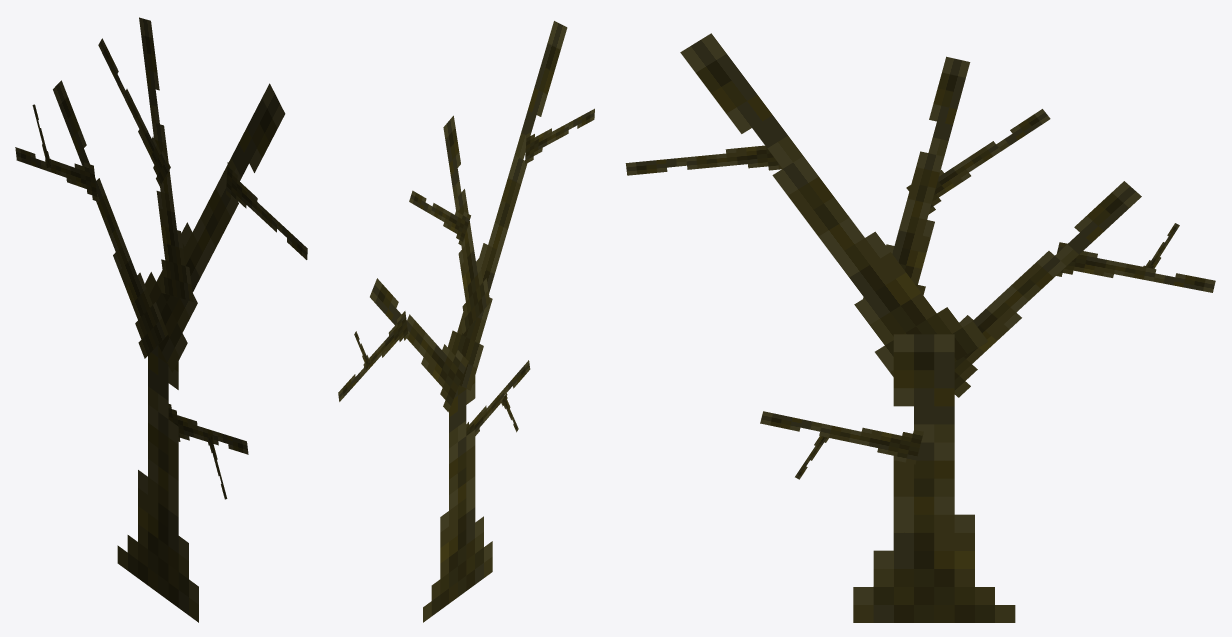
File: Dead_tree_2D.fbx
3 views of the same model, side by side, from view 1: azimuth 30°, elevation 25°; view 2: azimuth 150°, elevation 25°; view 3: azimuth 270°, elevation 25° (orthographic). The views are drawn at different scales.
Visible parts, largest first — view 1: Plane, Plane.002, Plane.001, Plane.009, Plane.008, Plane.003, Plane.007, Plane.004; view 2: Plane, Plane.002, Plane.001, Plane.009, Plane.003, Plane.008, Plane.007, Plane.004; view 3: Plane, Plane.002, Plane.001, Plane.009, Plane.004, Plane.007, Plane.003, Plane.008.
Boxes of the visible parts, x1=… form: Plane: x1=117, y1=345, x2=198, y2=622; Plane.002: x1=145, y1=83, x2=285, y2=372; Plane.001: x1=53, y1=80, x2=168, y2=358; Plane.009: x1=139, y1=17, x2=193, y2=301; Plane.008: x1=98, y1=38, x2=170, y2=186; Plane.003: x1=226, y1=162, x2=307, y2=259; Plane.007: x1=15, y1=147, x2=97, y2=201; Plane.004: x1=168, y1=404, x2=248, y2=454; Plane: x1=423, y1=376, x2=492, y2=622; Plane.002: x1=447, y1=21, x2=567, y2=390; Plane.001: x1=370, y1=278, x2=468, y2=412; Plane.009: x1=443, y1=115, x2=490, y2=334; Plane.003: x1=525, y1=108, x2=594, y2=164; Plane.008: x1=409, y1=190, x2=470, y2=245; Plane.007: x1=338, y1=311, x2=408, y2=401; Plane.004: x1=466, y1=360, x2=530, y2=435; Plane: x1=853, y1=334, x2=1015, y2=622; Plane.002: x1=680, y1=33, x2=987, y2=376; Plane.001: x1=954, y1=181, x2=1141, y2=397; Plane.009: x1=863, y1=56, x2=970, y2=298; Plane.004: x1=760, y1=411, x2=923, y2=464; Plane.007: x1=1056, y1=242, x2=1215, y2=292; Plane.003: x1=625, y1=145, x2=782, y2=175; Plane.008: x1=906, y1=109, x2=1050, y2=214.
Bounding box in the file's own units: 9.17 × 656 × 580.
